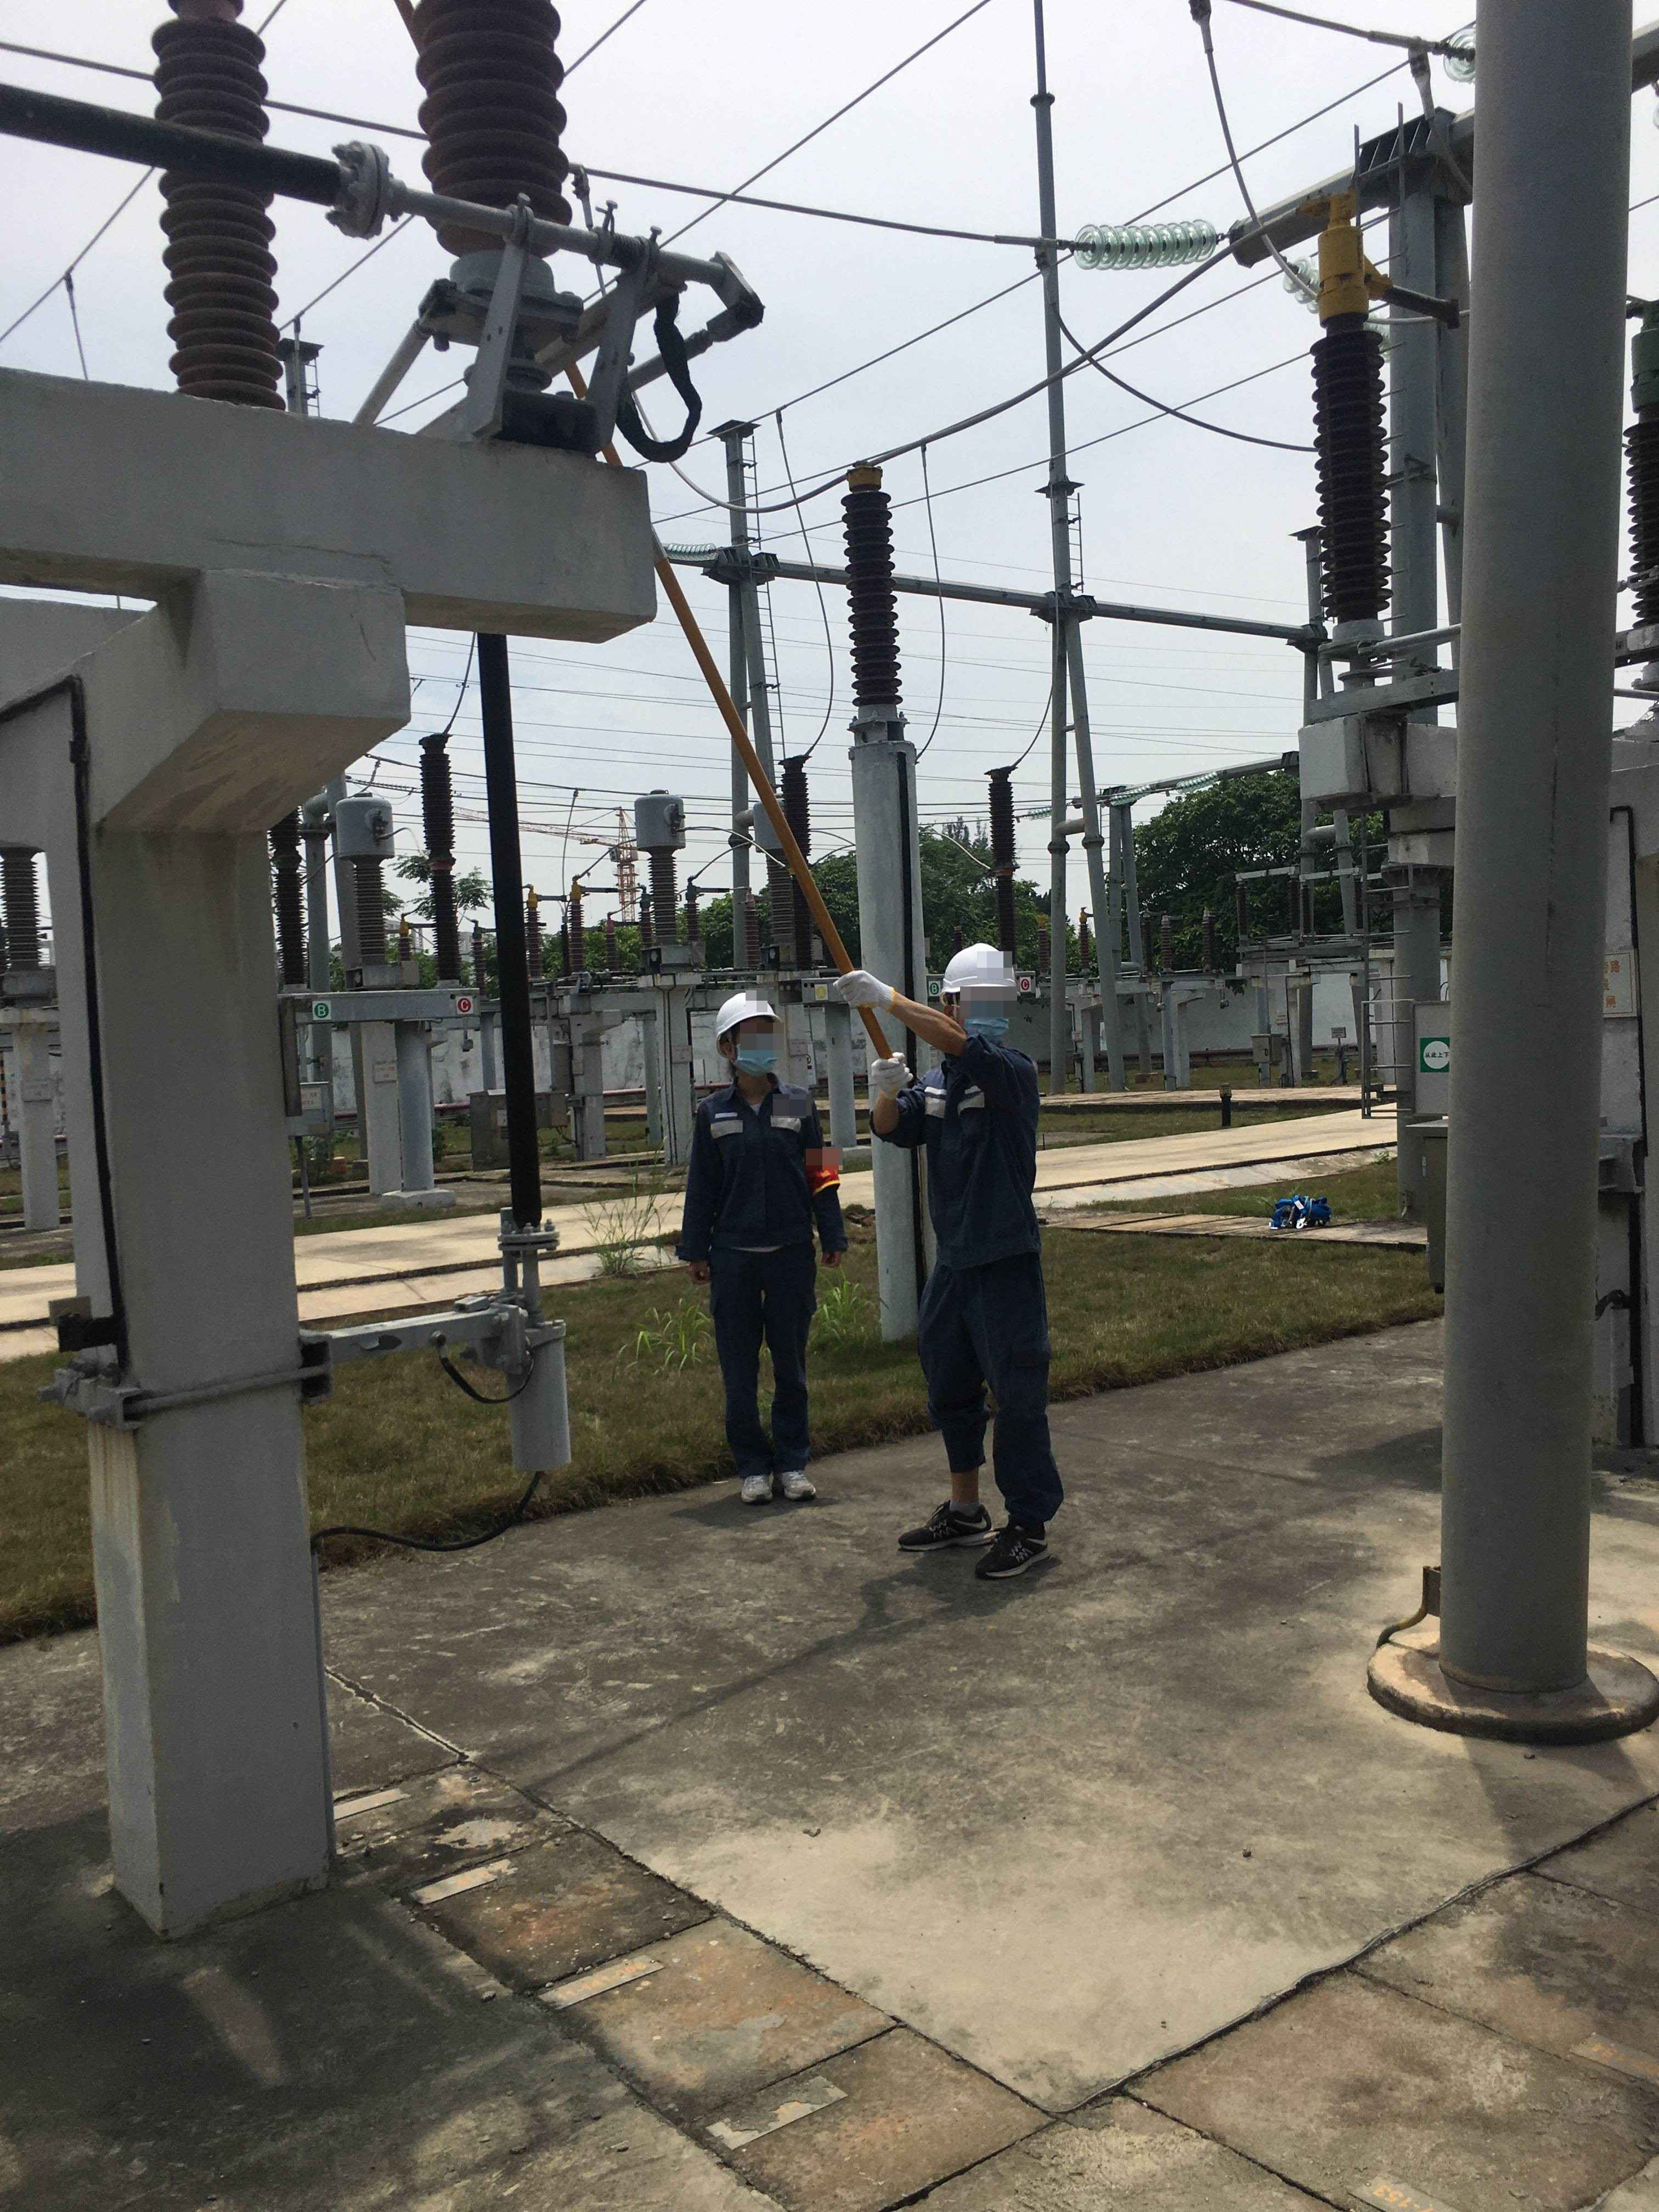downsuit: (917, 1263, 1079, 1527), (702, 1275, 831, 1487)
upsuit: (896, 1049, 1044, 1259), (674, 1080, 842, 1261)
wrongbottom: (931, 1400, 995, 1512)
wrongtop: (894, 996, 985, 1076), (870, 1085, 925, 1151)
